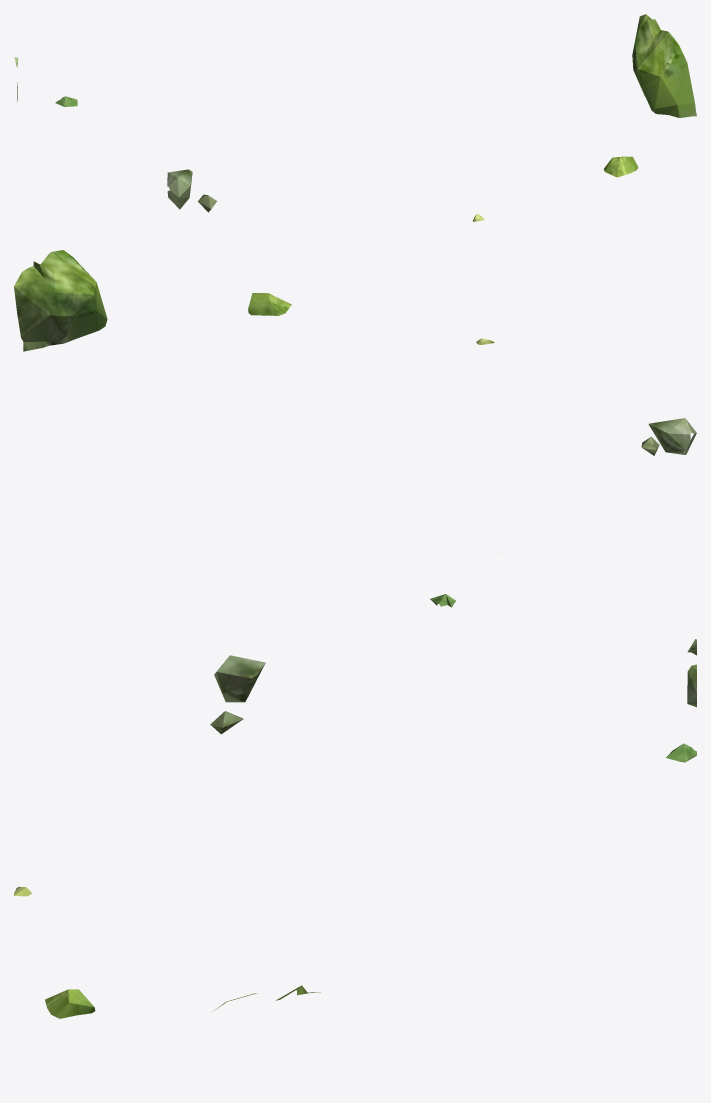
3 renders of one model, top to bottom at view 1: azimuth 30°, elevation 25°; view 2: azimuth 150°, elevation 25°; view 3: azimuth 270°, elevation 25°, orthographic. The views are drawn at different scales.
Size of the model in its own units: 26.11 by 3.27 by 20.39.
Materials: 1 (1 with a texture image).
